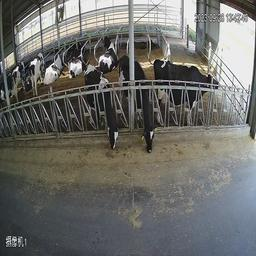cow: (152, 42, 222, 123), (118, 49, 157, 159), (81, 62, 120, 162), (24, 43, 45, 102), (97, 29, 120, 77), (42, 45, 66, 91), (6, 52, 25, 104), (67, 35, 89, 79)
